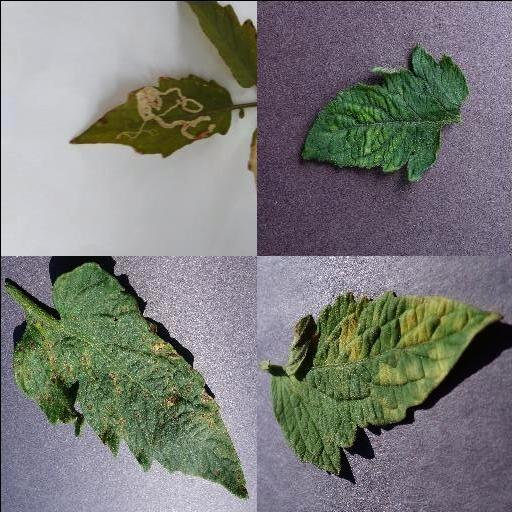Leaf Miner: (69, 76, 231, 158)
Leaf Mold: (268, 290, 504, 476)
Mosaic Virus: (299, 41, 467, 181)
Septoria: (9, 264, 249, 500)
